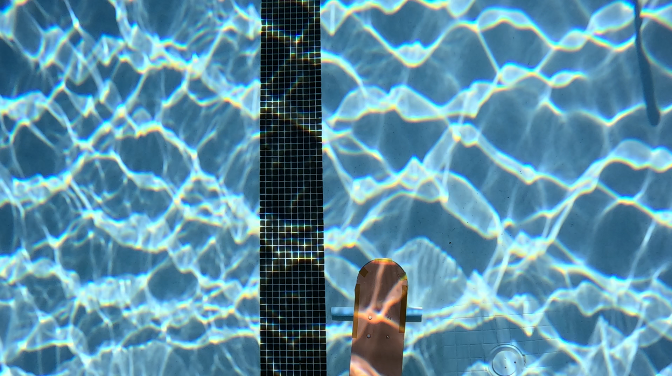pathmarker: (351, 258, 407, 375)
